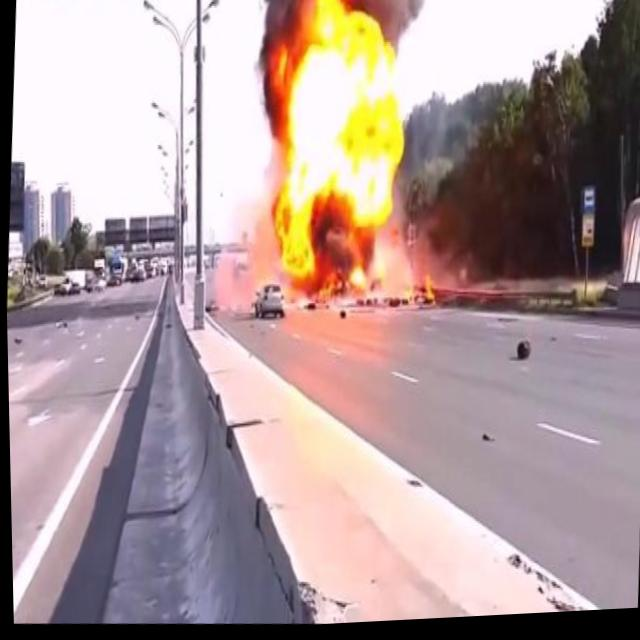fire: (263, 0, 418, 318), (414, 270, 437, 307)
